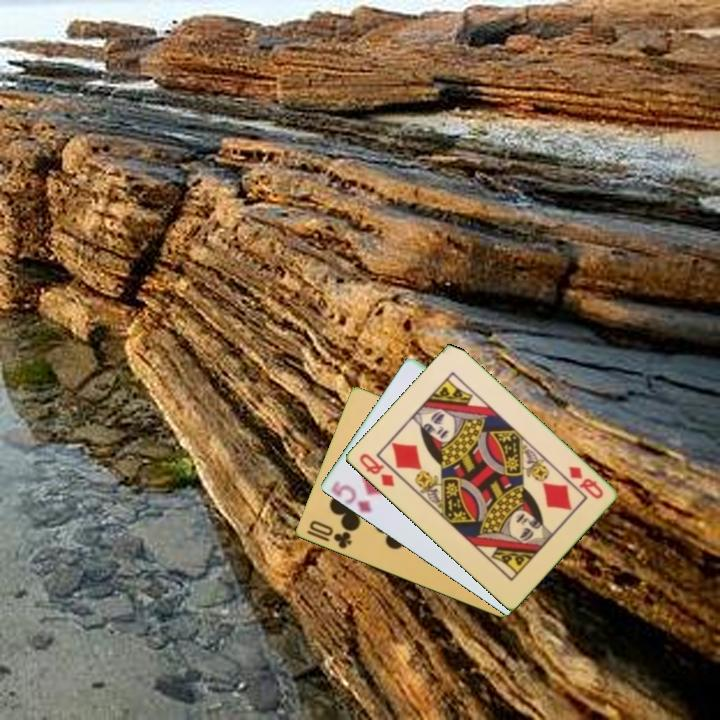10c: (303, 517, 354, 552)
5d: (330, 479, 375, 516)
Qd: (355, 450, 397, 490), (564, 462, 606, 502)
